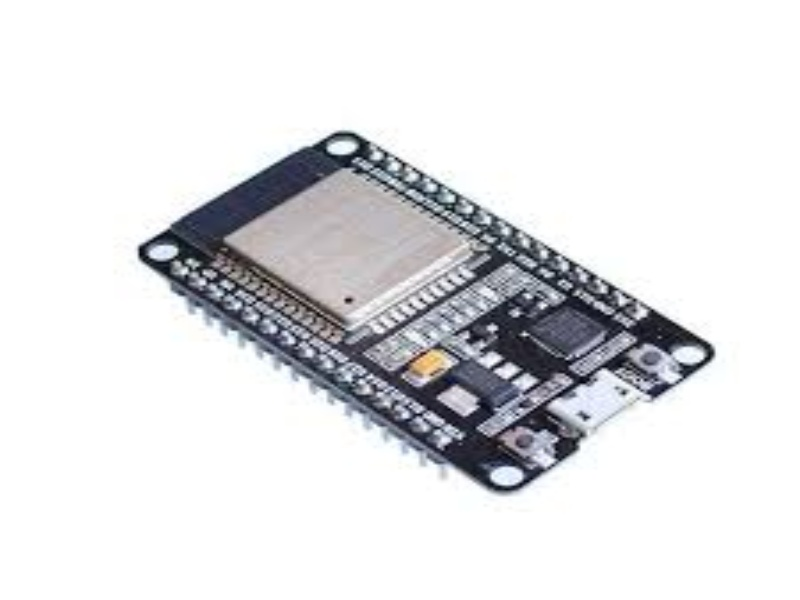esp32: (123, 120, 725, 493)
